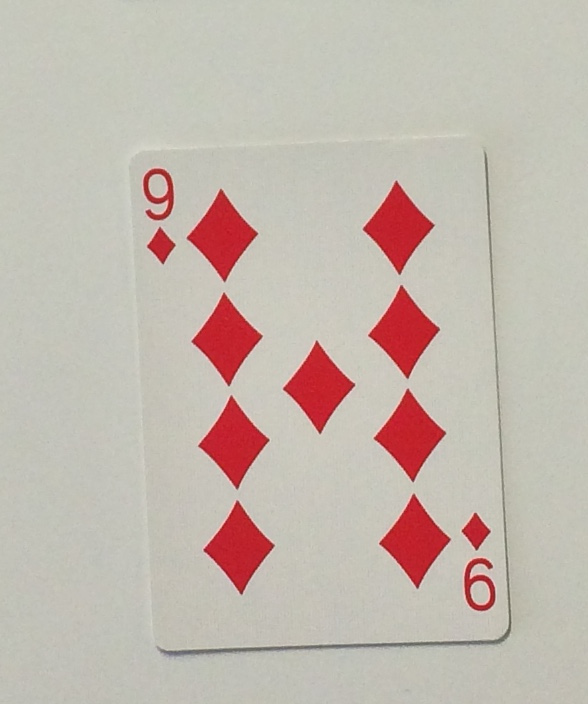9: (134, 163, 180, 227)
D: (142, 222, 181, 272)
